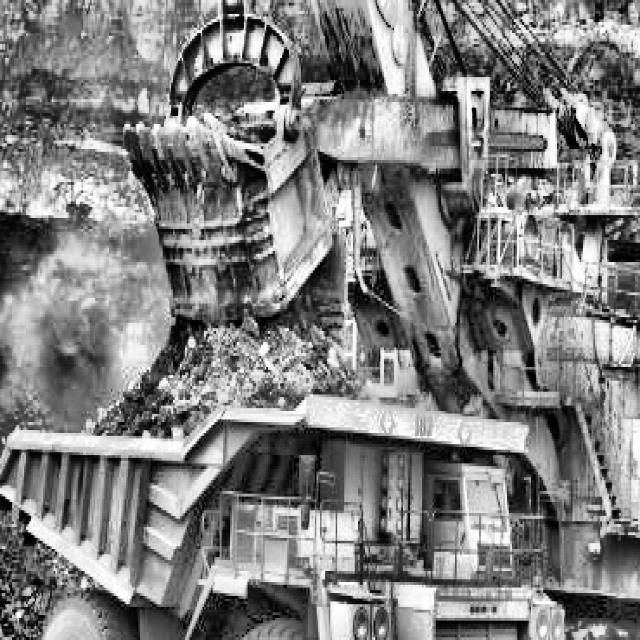dump_truck: (12, 369, 562, 640)
